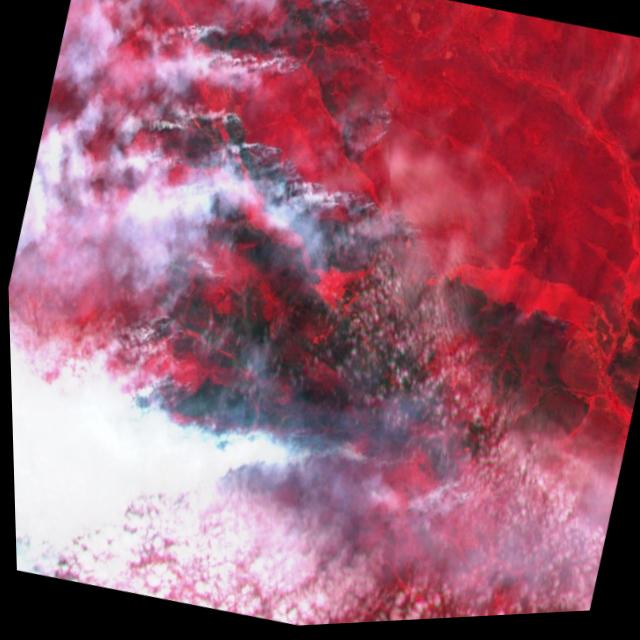fire: (65, 74, 504, 547), (167, 0, 377, 121)
